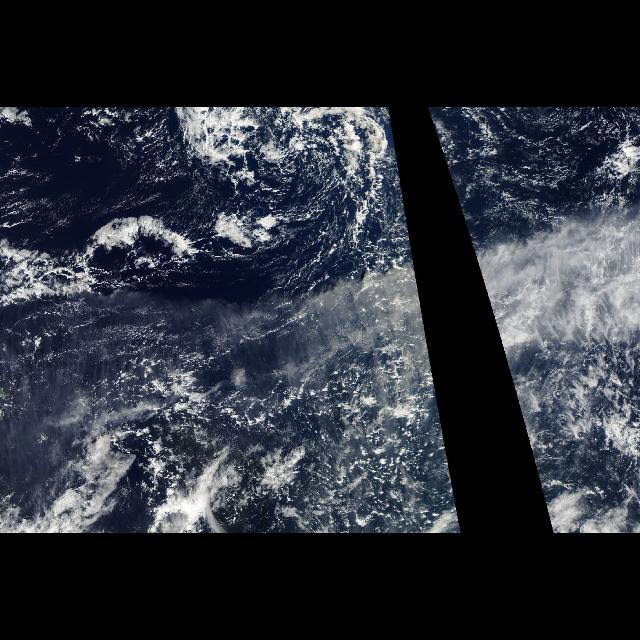Sugar: (451, 110, 599, 230)
